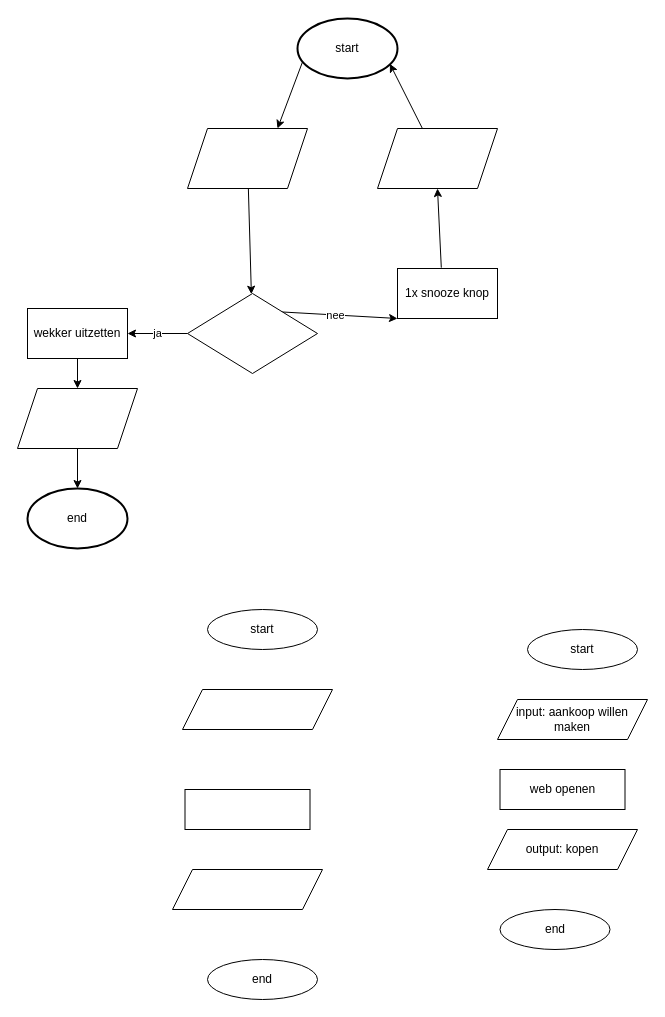
Some shapes in this 665 by 1017 pixel diagram are drawn without their labels. The shapes that lost their labels are listed below. From the top down, each one's box as (x1, y1, x2, y2) in pixels, then its label:
(186, 128, 308, 188): input: wekker gaat af
(376, 128, 498, 188): output: omdraaien en opstaan
(186, 292, 318, 374): weekend?
(16, 388, 138, 448): output: omdraaien
